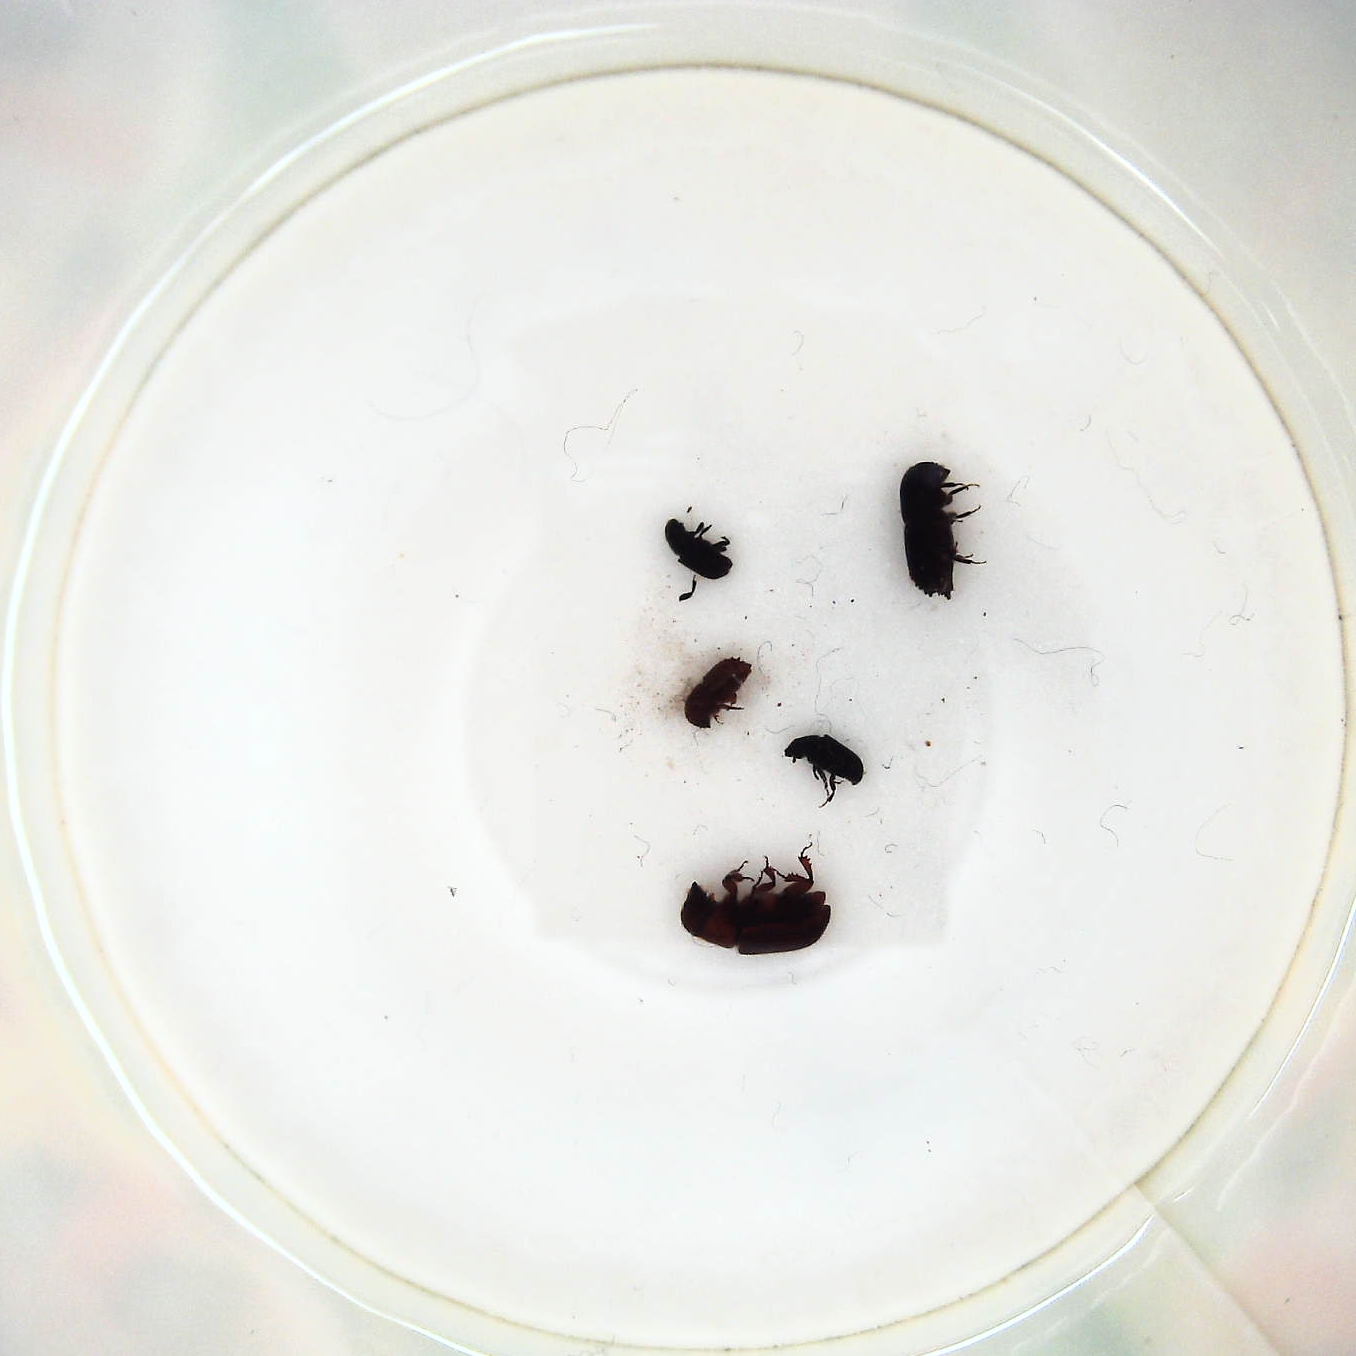Boerner: (898, 454, 990, 603)
Leconte: (678, 839, 837, 962)
armandi: (664, 512, 738, 586)
coleoptera: (779, 733, 868, 808)
linnaeus: (680, 652, 756, 731)
